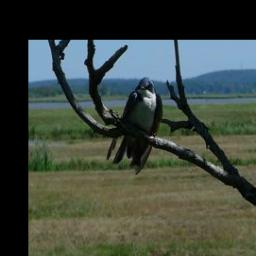Swallow: (104, 74, 165, 177)
